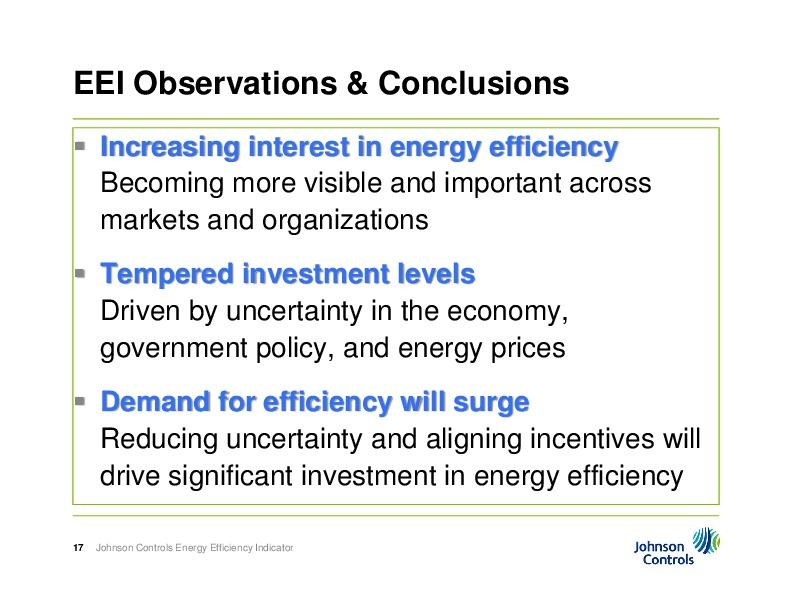paragraph: (65, 123, 731, 511)
subtitle: (90, 536, 312, 565)
title: (68, 52, 577, 109)
